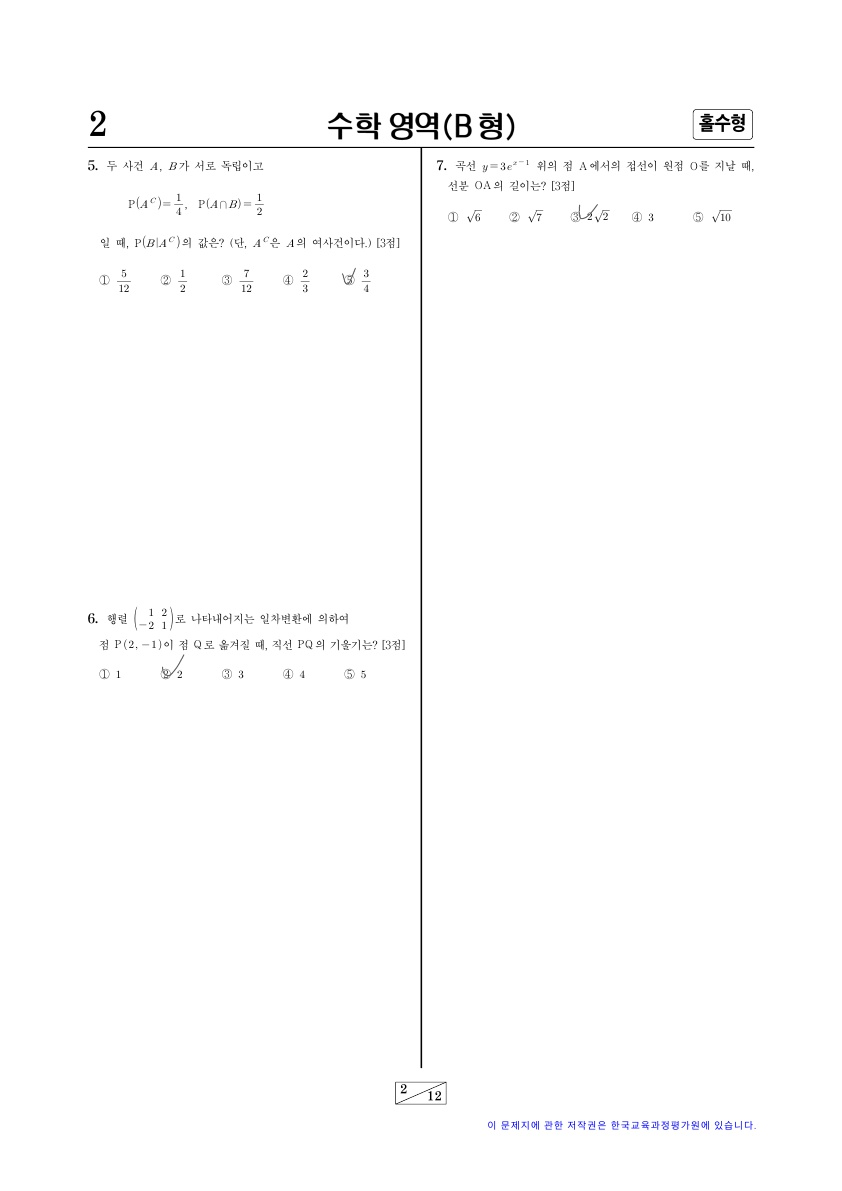question: (72, 149, 411, 313), (422, 149, 758, 242), (77, 601, 414, 690)
